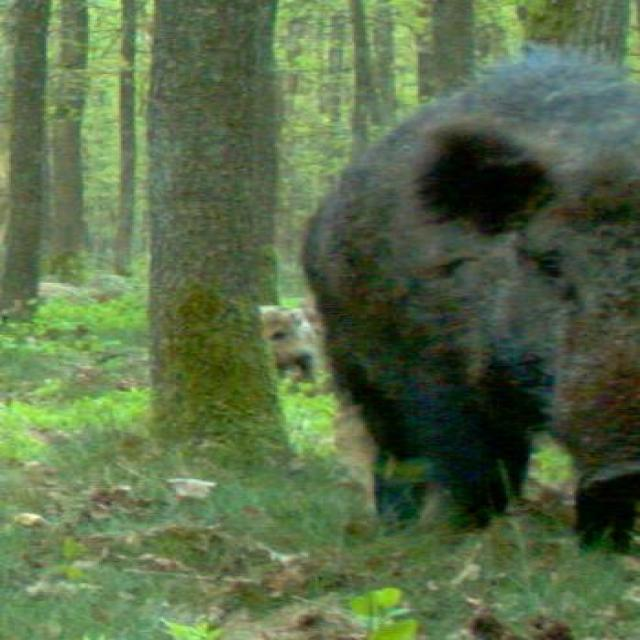pig: (290, 35, 640, 544)
